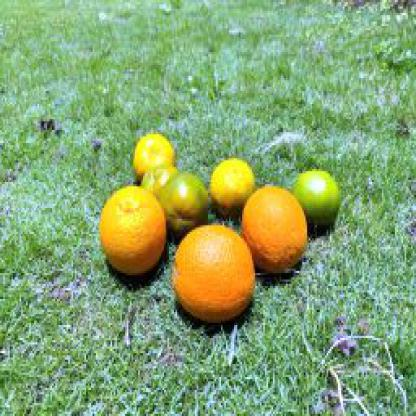orange: (172, 223, 257, 321), (94, 184, 166, 282), (242, 182, 312, 275), (208, 156, 254, 210), (132, 132, 172, 178)
